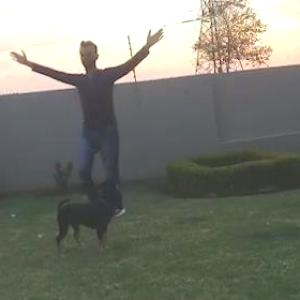takeoff: (20, 32, 156, 205)
